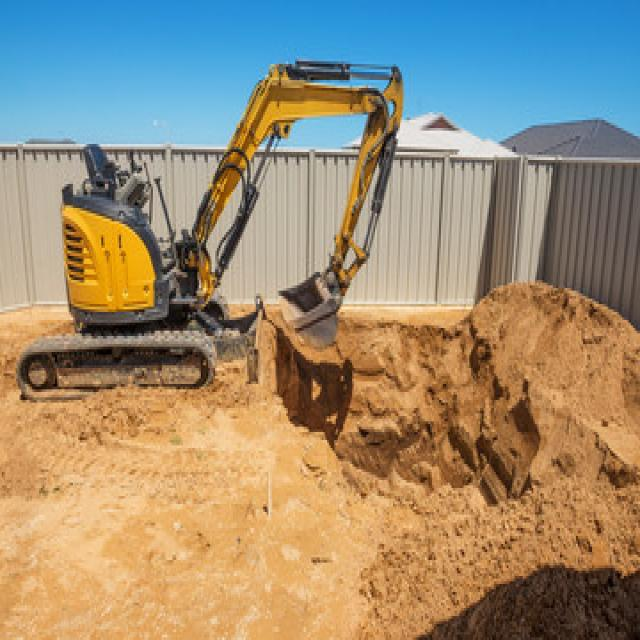Site Excavation: (275, 178, 609, 640)
